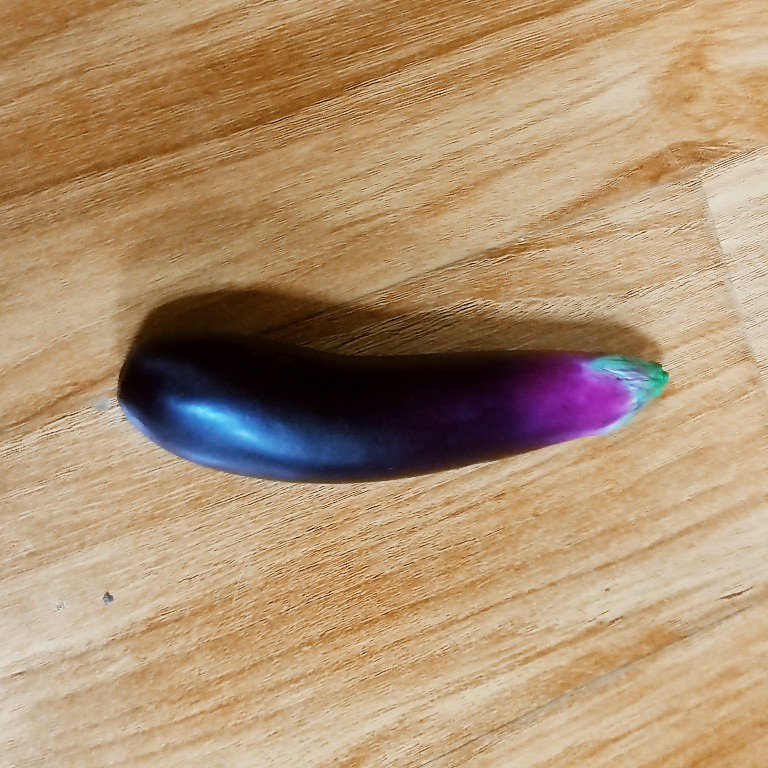fruit_eggplant: (111, 328, 673, 489)
